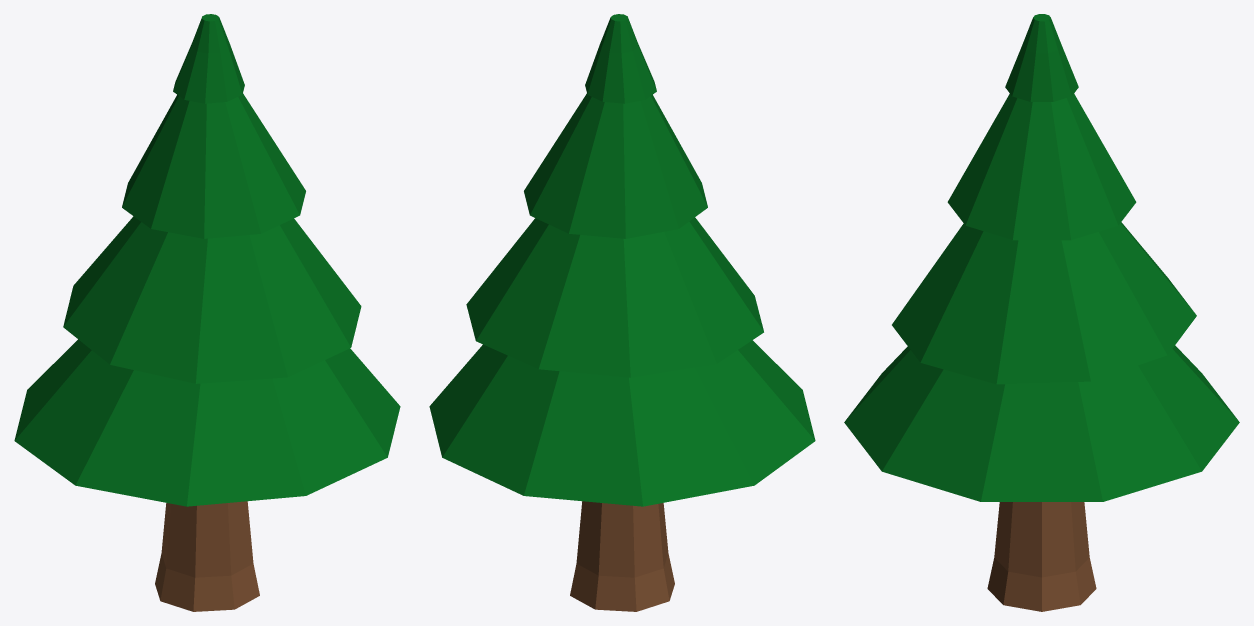
The model's file is TreeVar1.fbx.
The picture shows the model from 3 angles, left to right: view 1: azimuth 30°, elevation 25°; view 2: azimuth 150°, elevation 25°; view 3: azimuth 270°, elevation 25°; orthographic projection.
Parts seen in each view (by area): view 1: BaseTreeLeaves, BaseTrunkTrunk; view 2: BaseTreeLeaves, BaseTrunkTrunk; view 3: BaseTreeLeaves, BaseTrunkTrunk.
Part boxes in pixels (box(x1,y1,x2,y2)): BaseTreeLeaves: box(14, 14, 400, 506); BaseTrunkTrunk: box(155, 501, 259, 611); BaseTreeLeaves: box(429, 14, 815, 506); BaseTrunkTrunk: box(570, 501, 674, 611); BaseTreeLeaves: box(844, 14, 1239, 501); BaseTrunkTrunk: box(987, 502, 1096, 611).
Size of the model in its own units: 4.06 by 6.82 by 4.27.
